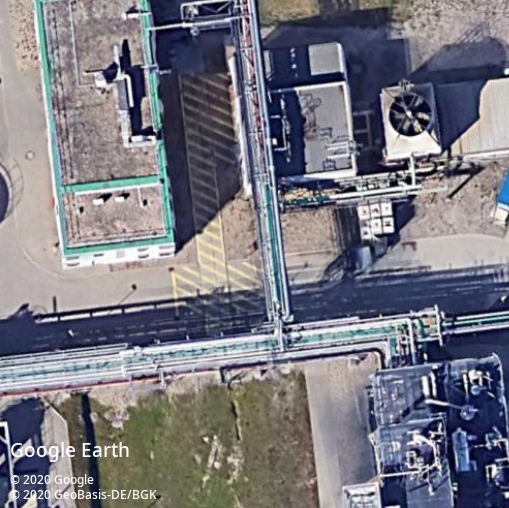Vent: (388, 91, 432, 136)
